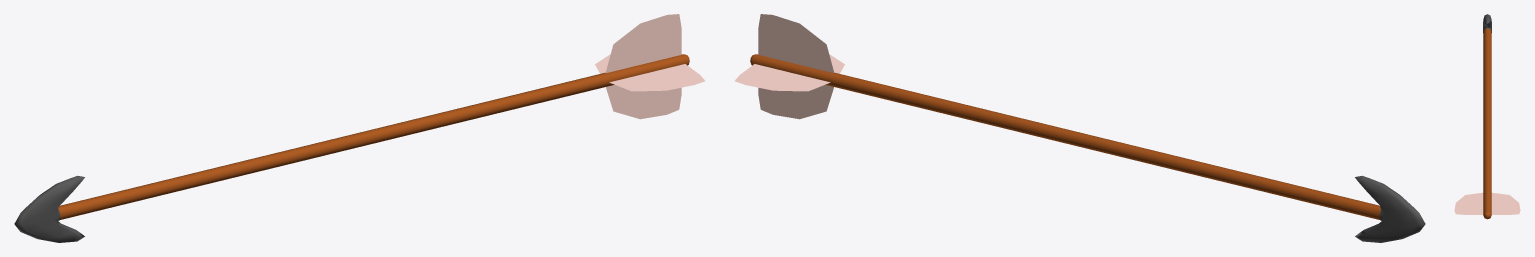
The model's file is Arrow.fbx.
3 renders of one model, left to right at view 1: azimuth 30°, elevation 25°; view 2: azimuth 150°, elevation 25°; view 3: azimuth 270°, elevation 25°, orthographic. The views are drawn at different scales.
Parts seen in each view (by area): view 1: Arrow; view 2: Arrow; view 3: Arrow.
Boxes of the visible parts, x1=… form: Arrow: x1=14, y1=14, x2=705, y2=242; Arrow: x1=734, y1=14, x2=1425, y2=242; Arrow: x1=1454, y1=14, x2=1520, y2=219.
Bounding box in the file's own units: 252 × 35.69 × 35.69.
